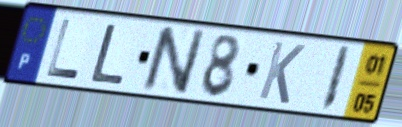8: (201, 32, 245, 100)
I: (317, 43, 354, 114)
K: (255, 39, 308, 107)
L: (87, 21, 128, 86), (44, 16, 83, 82)
N: (139, 24, 209, 97)
